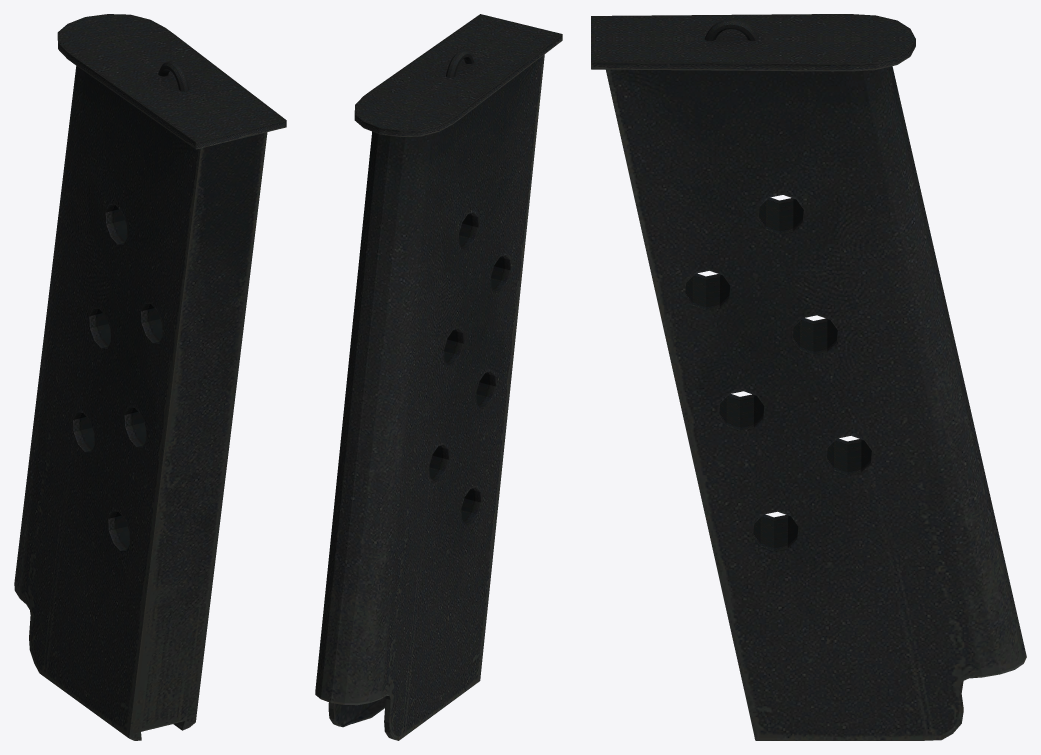
3 views of the same model, side by side, from view 1: azimuth 30°, elevation 25°; view 2: azimuth 150°, elevation 25°; view 3: azimuth 270°, elevation 25° (orthographic). The views are drawn at different scales.
Parts seen in each view (by area): view 1: TW_571a29dc2459771fb2755a6a_PZ_Import; view 2: TW_571a29dc2459771fb2755a6a_PZ_Import; view 3: TW_571a29dc2459771fb2755a6a_PZ_Import.
Boxes of the visible parts, <box> form: TW_571a29dc2459771fb2755a6a_PZ_Import: <box>14,14,286,740</box>; TW_571a29dc2459771fb2755a6a_PZ_Import: <box>315,14,562,740</box>; TW_571a29dc2459771fb2755a6a_PZ_Import: <box>591,14,1026,740</box>.
Size of the model in its own units: 0.00954 by 0.0352 by 0.0631.
1 material, 1 textured.
